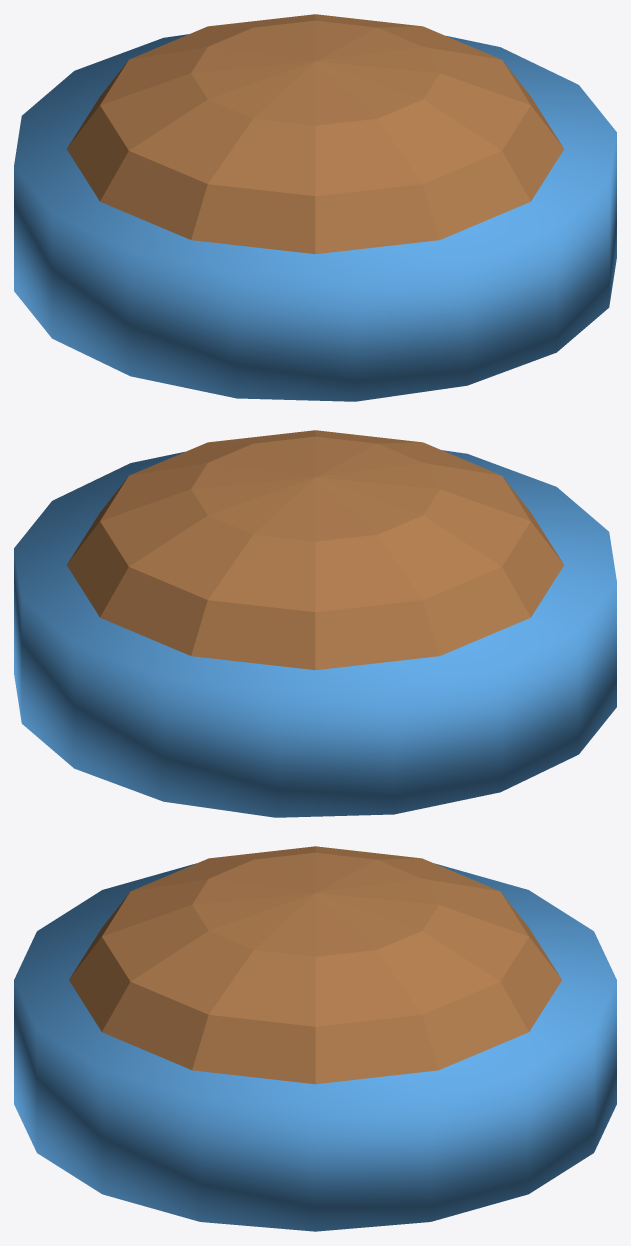
File: food_bowl.glb
3 renders of one model, top to bottom at view 1: azimuth 30°, elevation 25°; view 2: azimuth 150°, elevation 25°; view 3: azimuth 270°, elevation 25°, orthographic.
Visible parts, largest first — view 1: Bowl, Kibble; view 2: Bowl, Kibble; view 3: Bowl, Kibble.
Part boxes in pixels (<box>): Bowl: <box>14,34,616,401</box>; Kibble: <box>67,14,563,254</box>; Bowl: <box>14,450,616,817</box>; Kibble: <box>67,430,563,670</box>; Bowl: <box>14,863,616,1231</box>; Kibble: <box>69,846,561,1084</box>.
Bounding box in the file's own units: 0.44 × 0.17 × 0.44.
